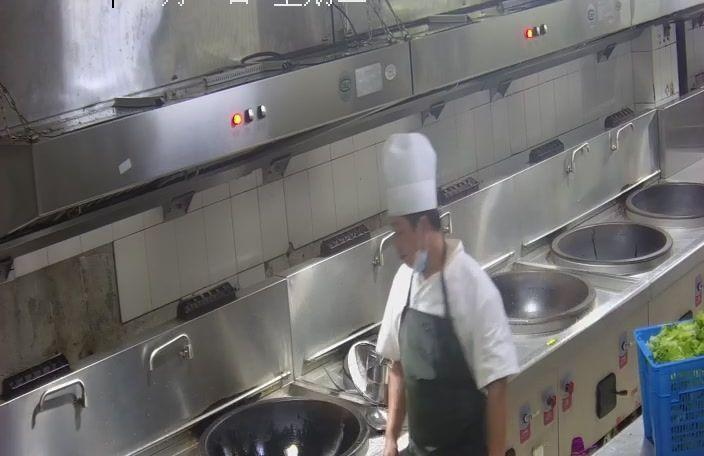mask: (392, 222, 432, 268)
